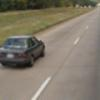cars: (0, 36, 45, 66)
